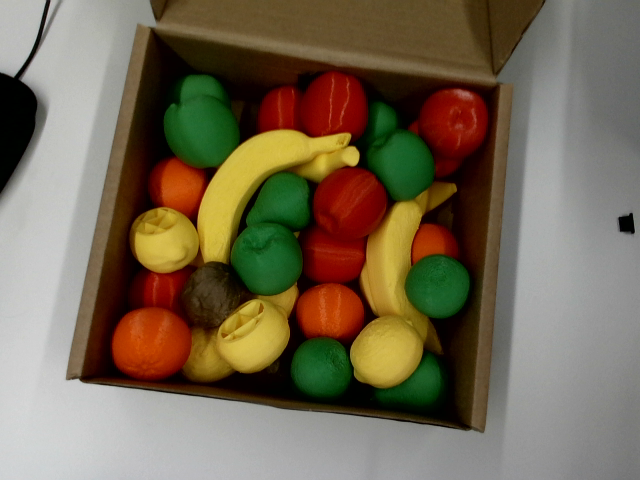banana: (163, 84, 354, 274), (354, 175, 456, 353), (288, 139, 363, 191), (255, 270, 304, 317)
green apple: (219, 208, 316, 307), (357, 118, 447, 209), (367, 347, 460, 434), (158, 89, 245, 176), (396, 245, 477, 326), (284, 332, 357, 408), (246, 172, 310, 230), (347, 96, 404, 159), (168, 72, 232, 107)
lemon: (334, 303, 435, 402), (206, 286, 304, 384), (119, 196, 207, 283), (167, 319, 235, 392)
orange: (111, 307, 191, 379), (140, 151, 212, 220), (296, 283, 363, 342), (408, 220, 459, 263)
red apple: (298, 153, 400, 255), (288, 221, 370, 292), (297, 68, 372, 142), (419, 88, 488, 158), (125, 256, 195, 319), (255, 84, 303, 132), (433, 156, 464, 179)
walnut: (166, 251, 255, 339)
